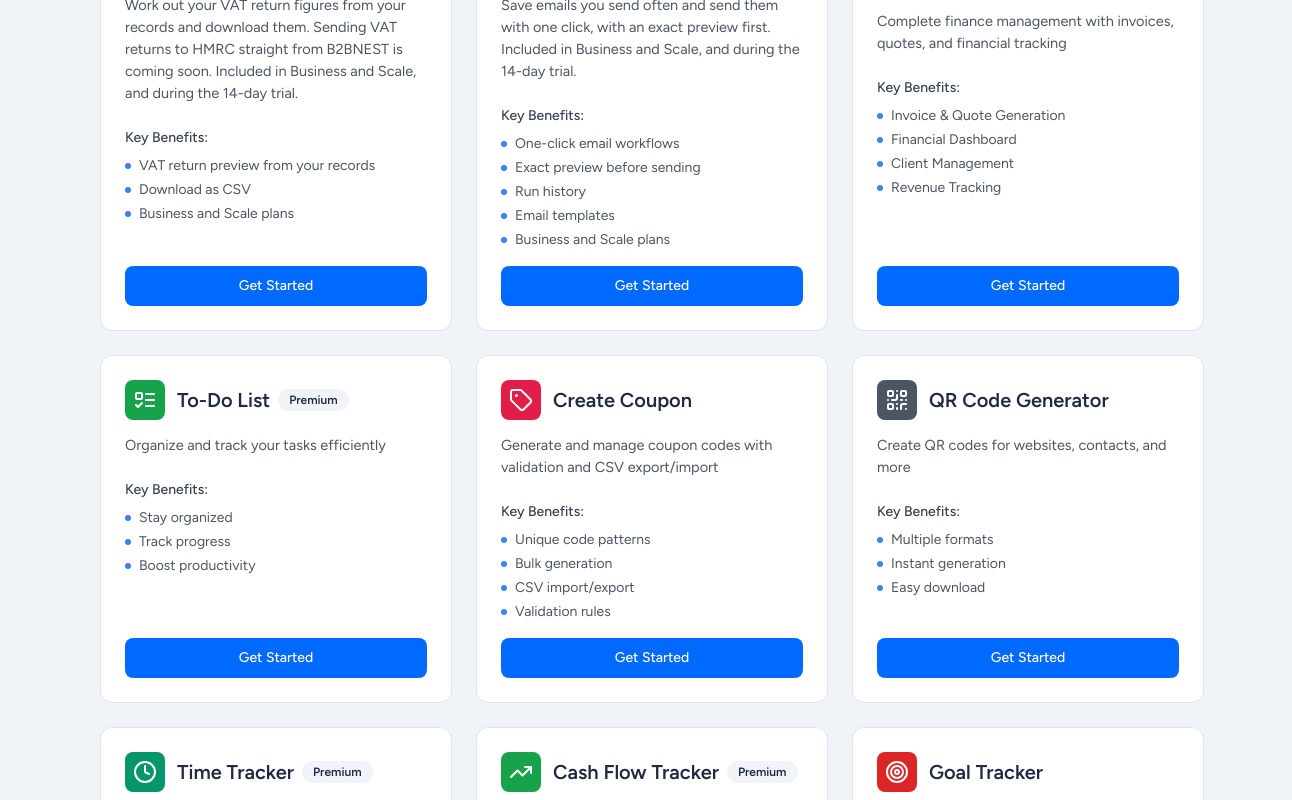
Scenario: Business Tools back navigation › opening a tool from the overview pushes a router entry; Back returns to the overview
This screenshot has width=1292, height=800.
(page scrolled)
Click the heading "QR Code Generator". click: point(1019, 400)
box: left=929, top=386, right=1109, bottom=414
(page scrolled)
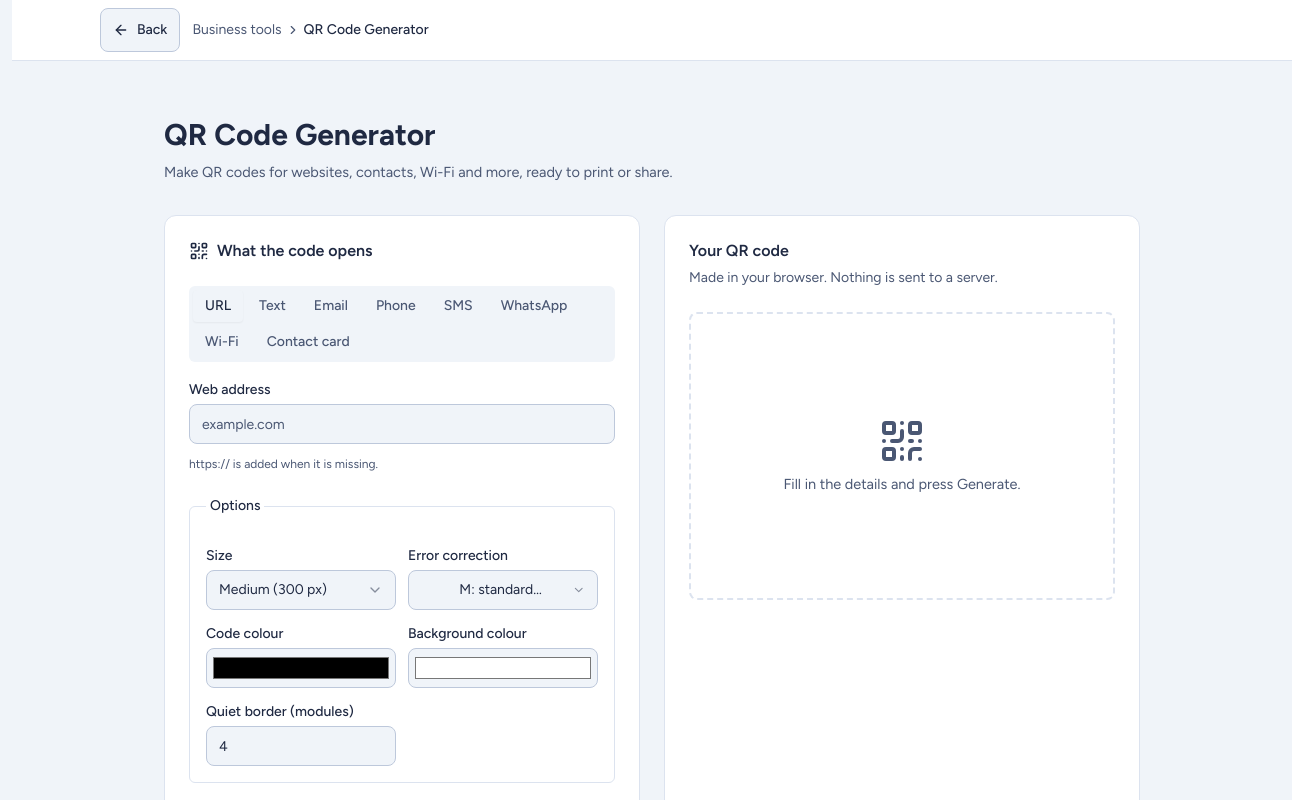
Click the button with aria-label "Go back". click: point(140, 30)
box: left=100, top=8, right=180, bottom=52
(page scrolled)
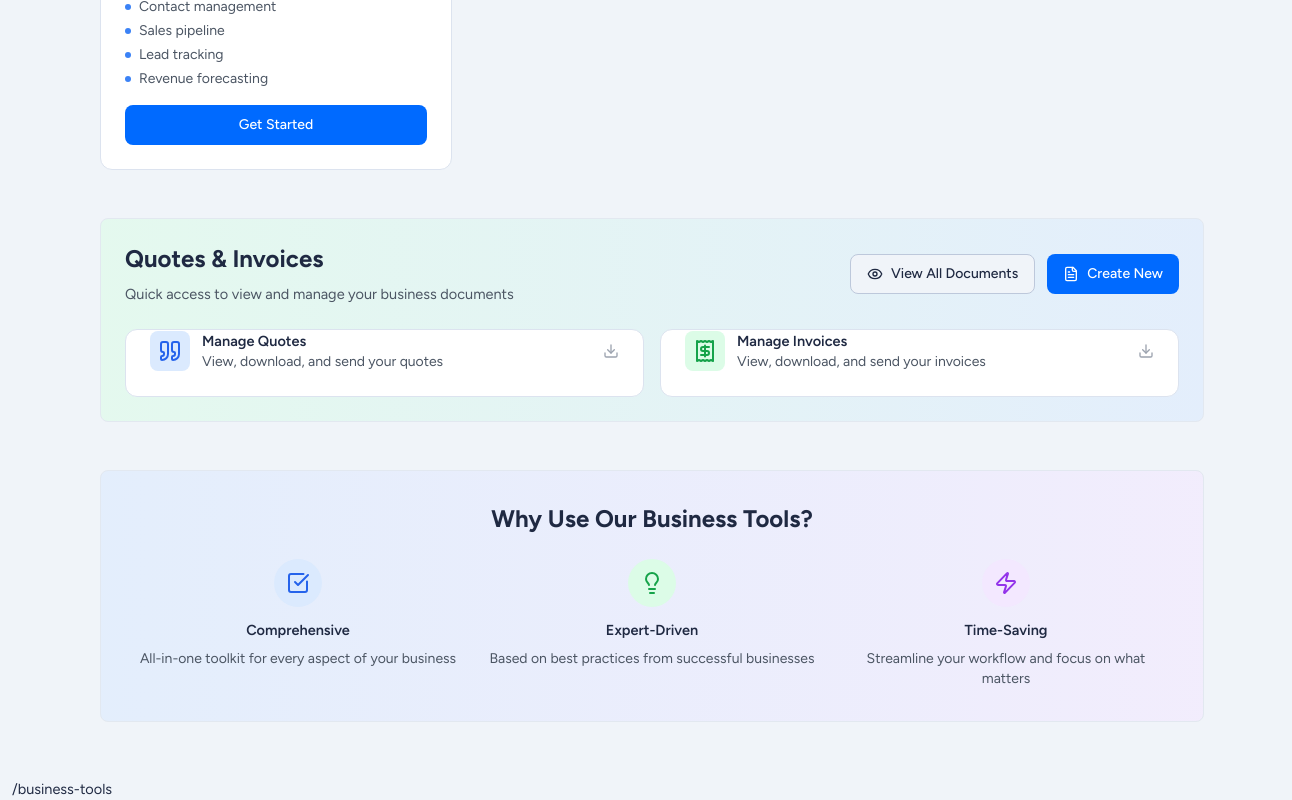
Check: the text with test id "where" reads "/business-tools", box left=12, top=780, right=112, bottom=798
Check: the element with test id "page-back-bar" is gone
